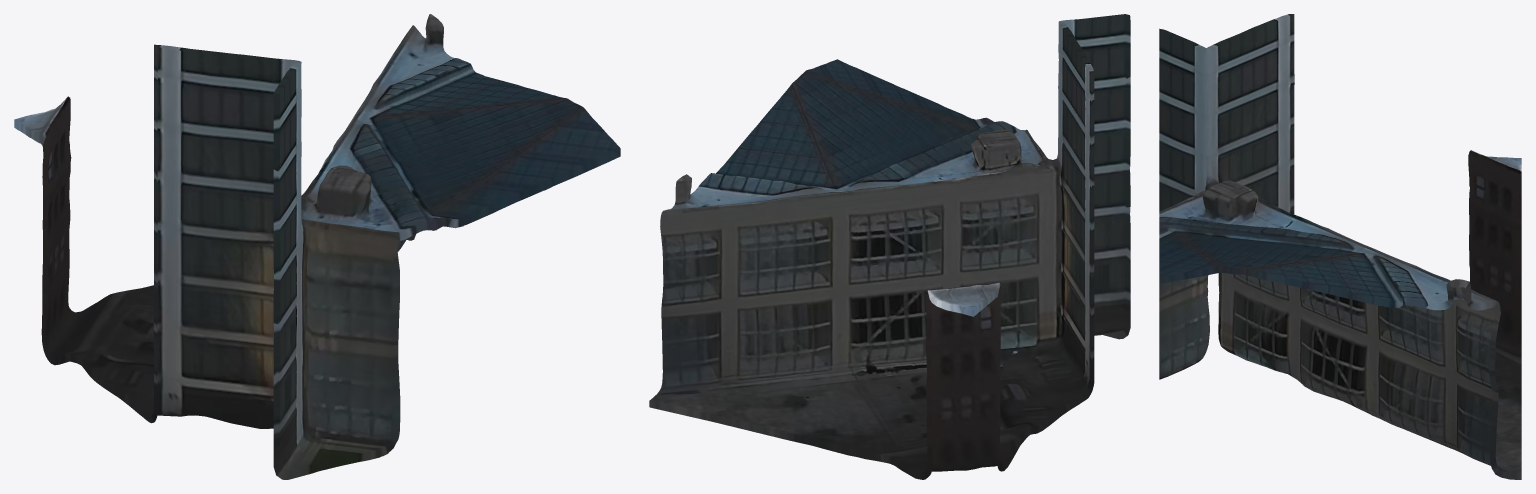
File: z20-167787-405227-h0-yup-uvflip-v3-world.glb
The picture shows the model from 3 angles, left to right: view 1: azimuth 30°, elevation 25°; view 2: azimuth 150°, elevation 25°; view 3: azimuth 270°, elevation 25°; orthographic projection. The views are drawn at different scales.
Size of the model in its own units: 30.16 by 29.64 by 30.32.
1 material, 1 textured.
